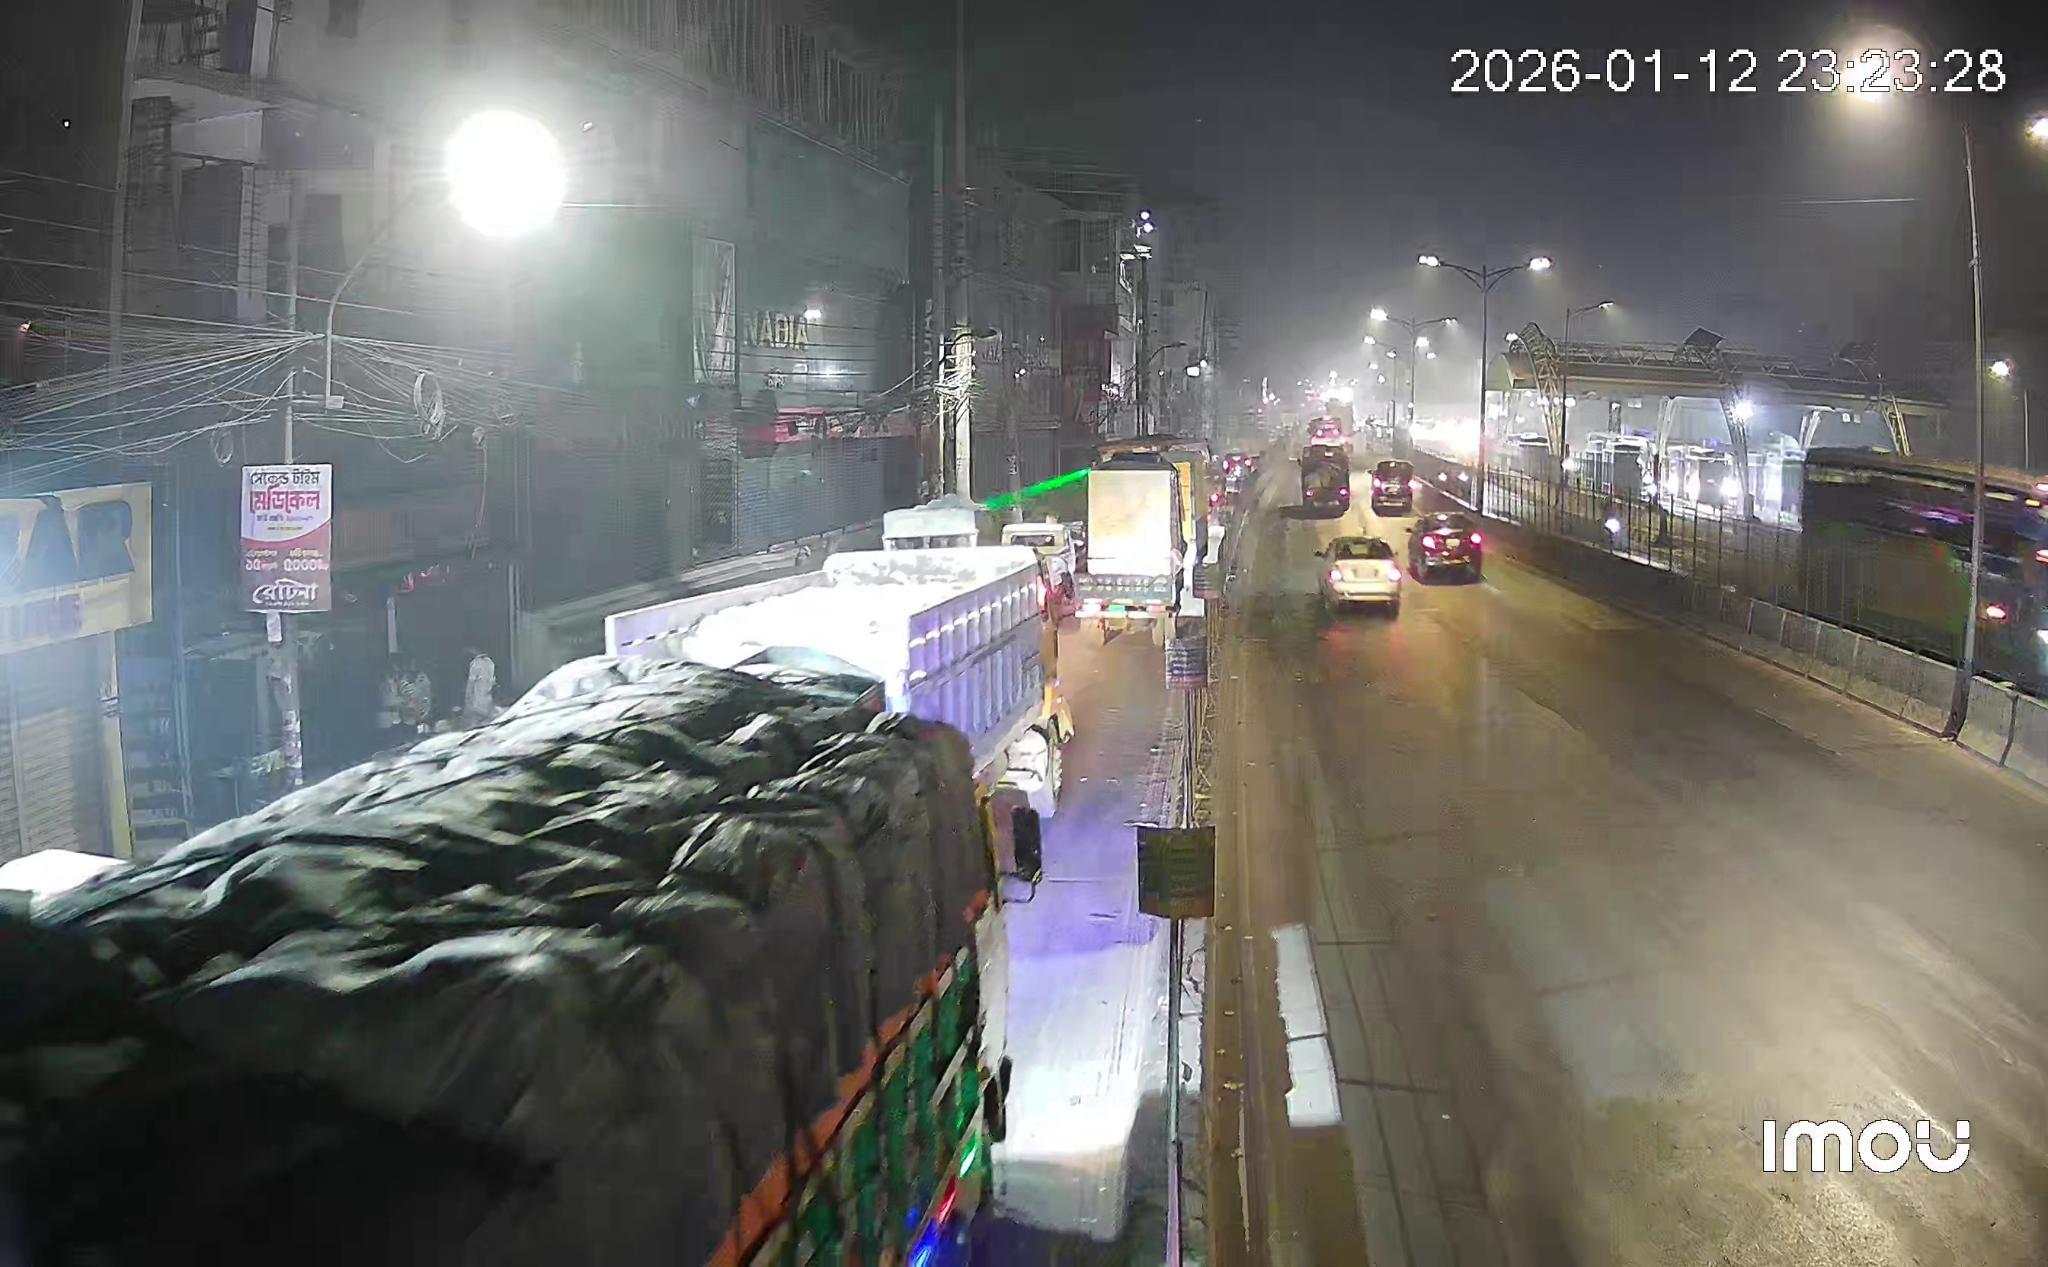Bus: (1772, 449, 1973, 658), (1976, 468, 2047, 688)
Private-Sedan Car: (1321, 514, 1483, 614)
Truck: (0, 655, 1008, 1267), (607, 547, 1069, 816), (1077, 446, 1200, 647)
